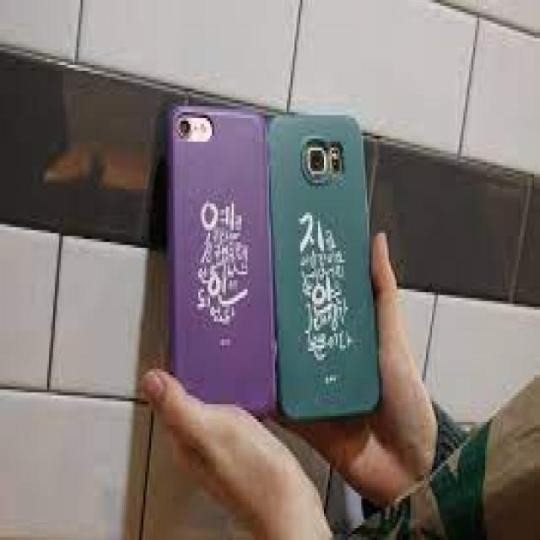phone: (269, 111, 381, 419), (170, 102, 272, 412)
